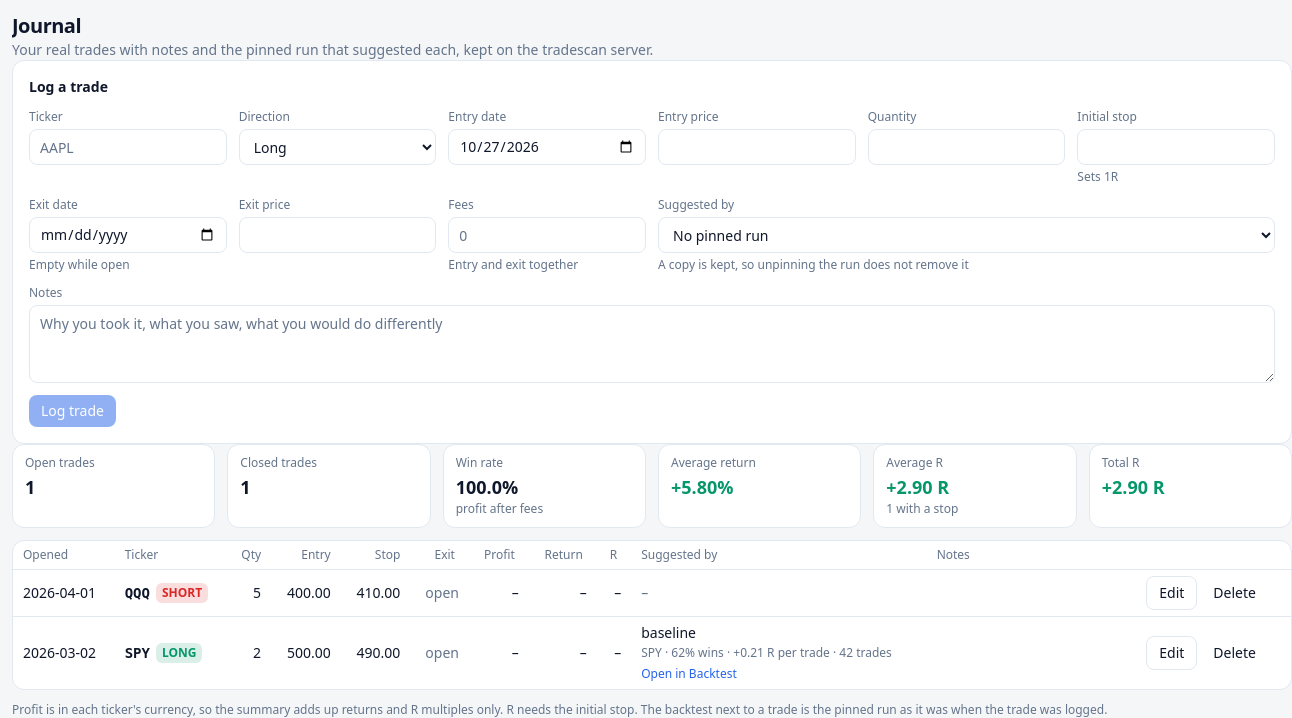
Test case: JournalPage › shows each trade's result and the summary, closes a trade and deletes one
The image size is (1292, 718).
Click the button with aria-label "Edit the SPY trade of 2026-03-02" at (1172, 653), box [1146,636,1197,670]
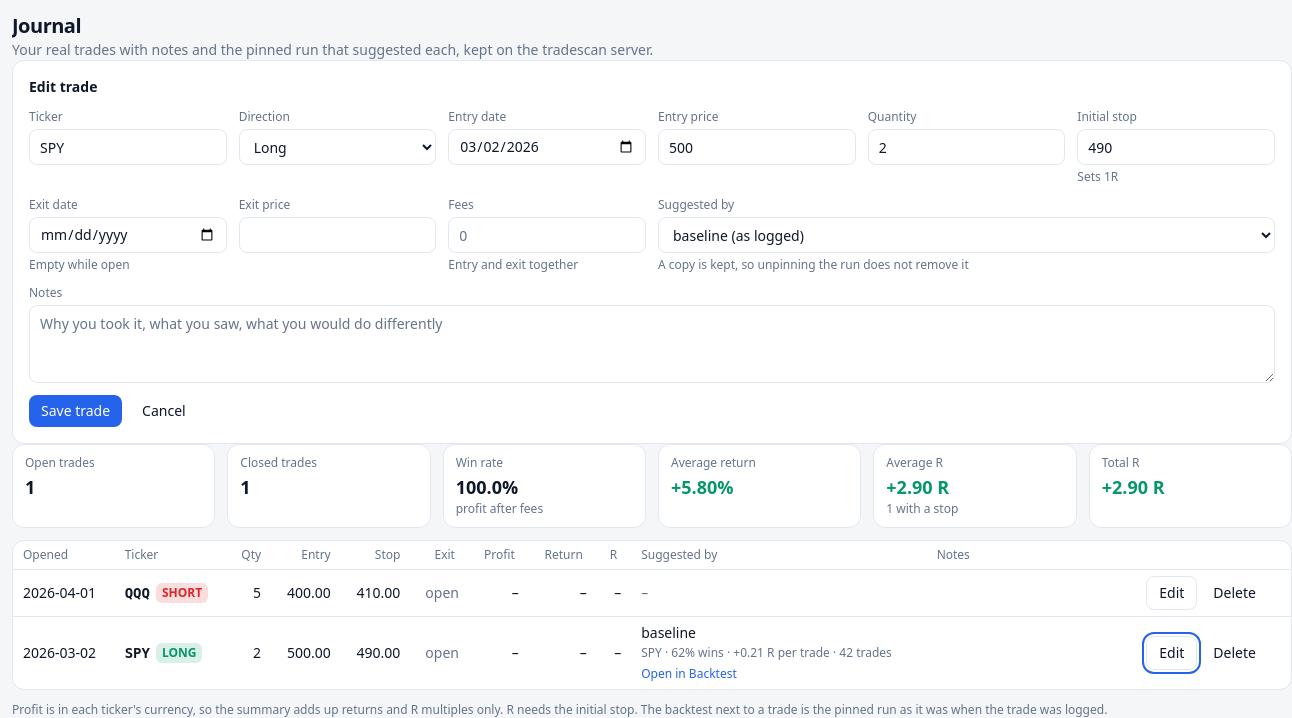
Expected: the heading "Edit trade" is shown, [29,77,97,96]
Expected: the dropdown labelled "Suggested by" shows "baseline (as logged)", [658,217,1275,253]
Type "2026-03-20" into the date field labelled "Exit date Empty while open" at (128, 235), box [29,217,227,253]
Type "530" into the number field labelled "Exit price" at (338, 235), box [239,217,436,253]
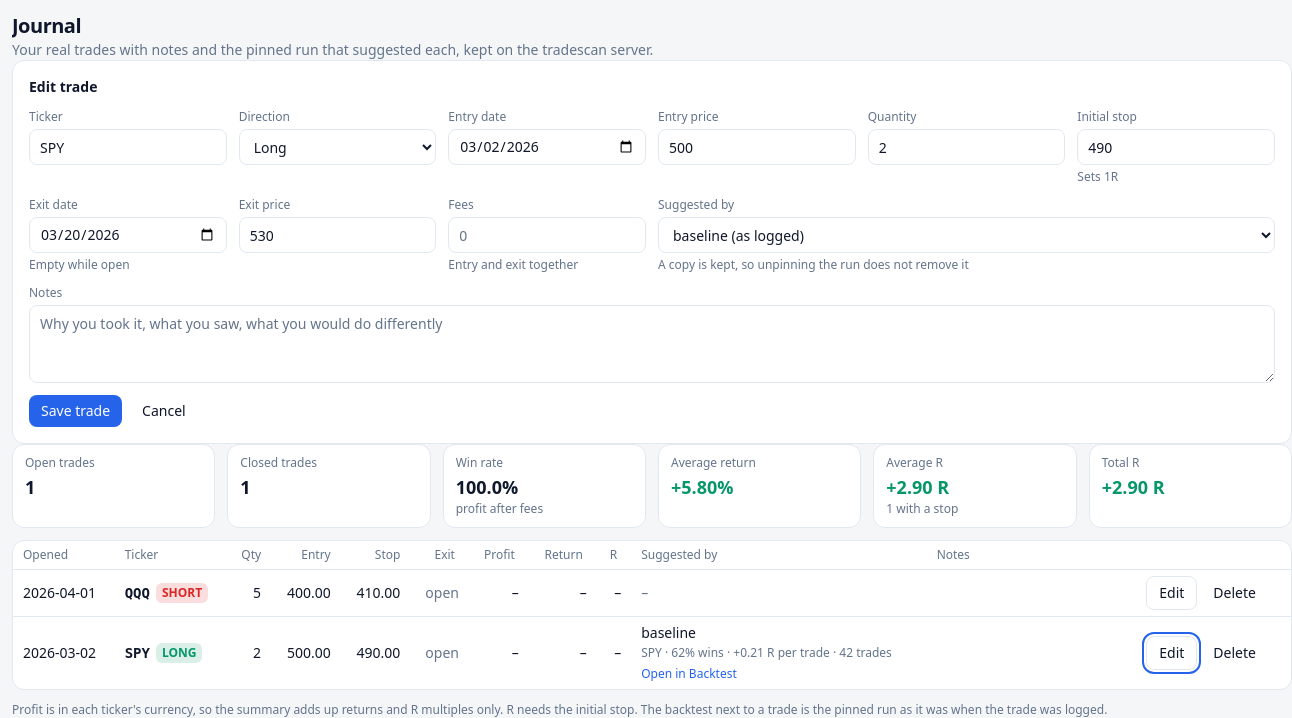
Type "2" into the number field labelled "Fees Entry and exit together" at (547, 235), box [448,217,646,253]
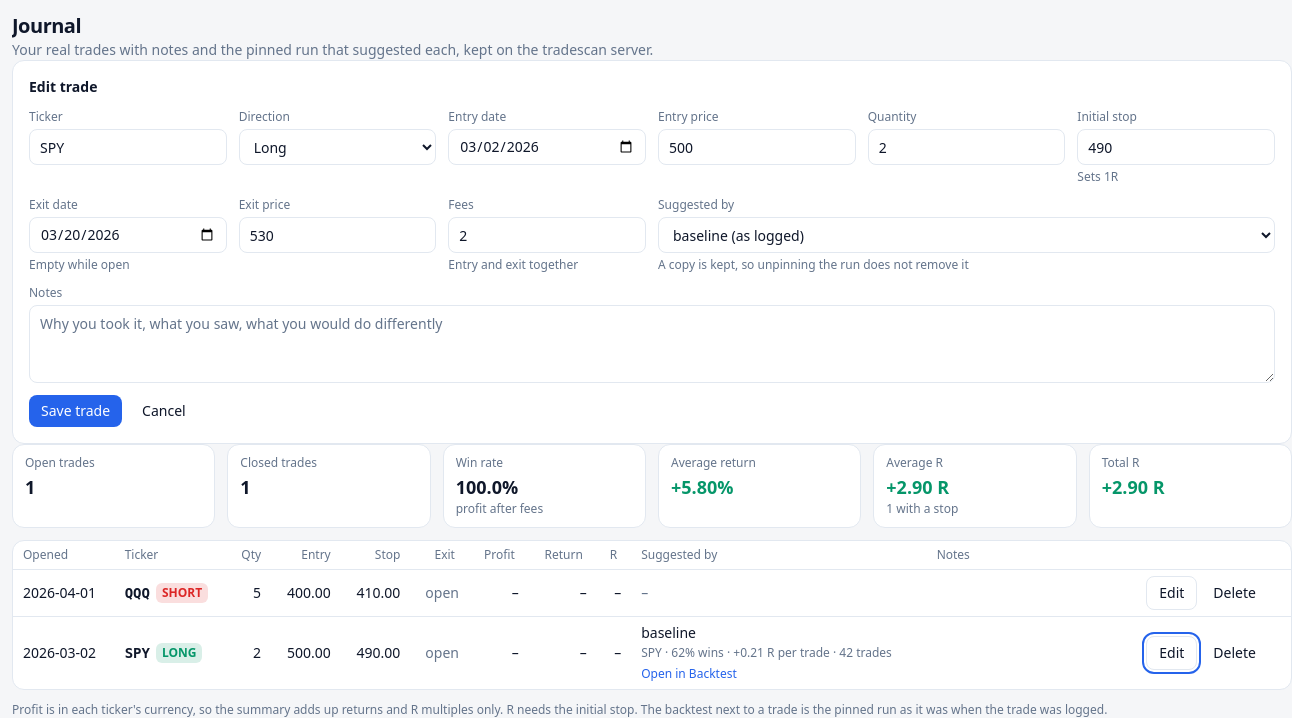
Click the button "Save trade" at (76, 411), box [29,395,122,427]
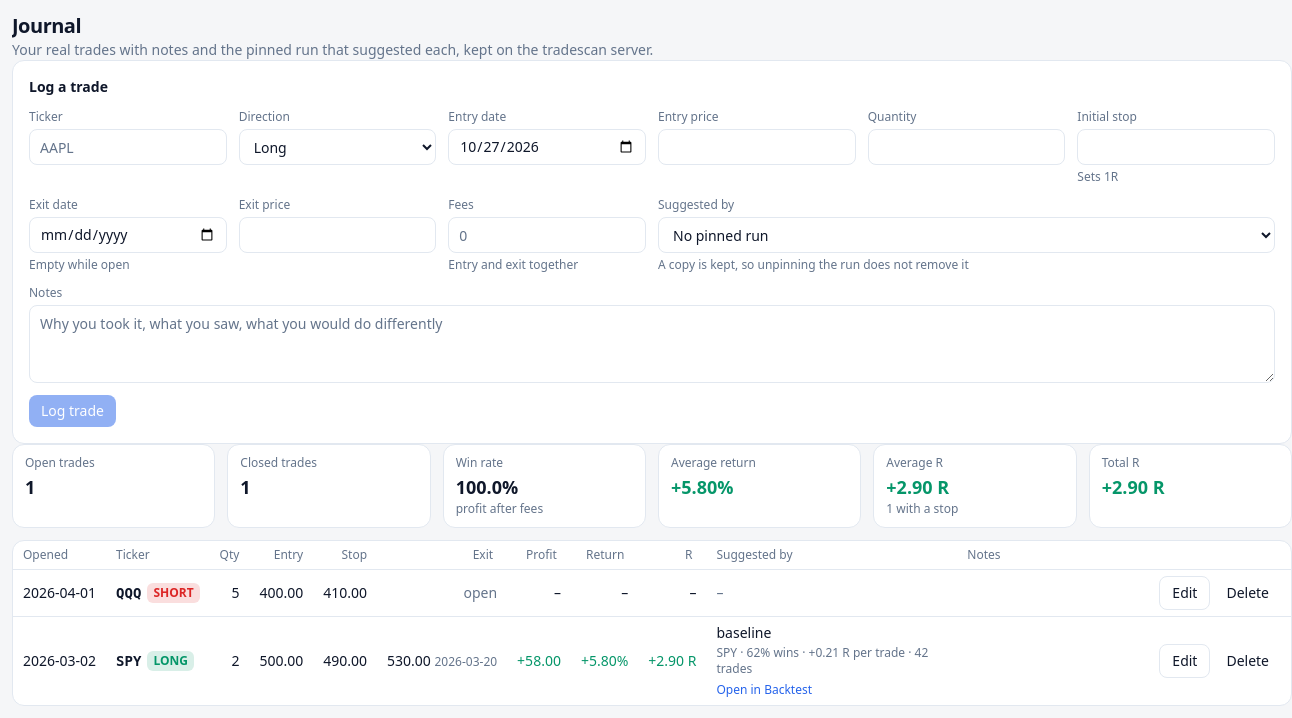
Expected: the row "SPY" shows "+58.00", [517,651,561,670]
Expected: the row "SPY" shows "+2.90 R", [648,651,696,670]
Expected: the heading "Log a trade" is shown, [29,77,108,96]
Click the button with aria-label "Delete the QQQ trade of 2026-04-01" at (1248, 593), box [1214,576,1281,610]
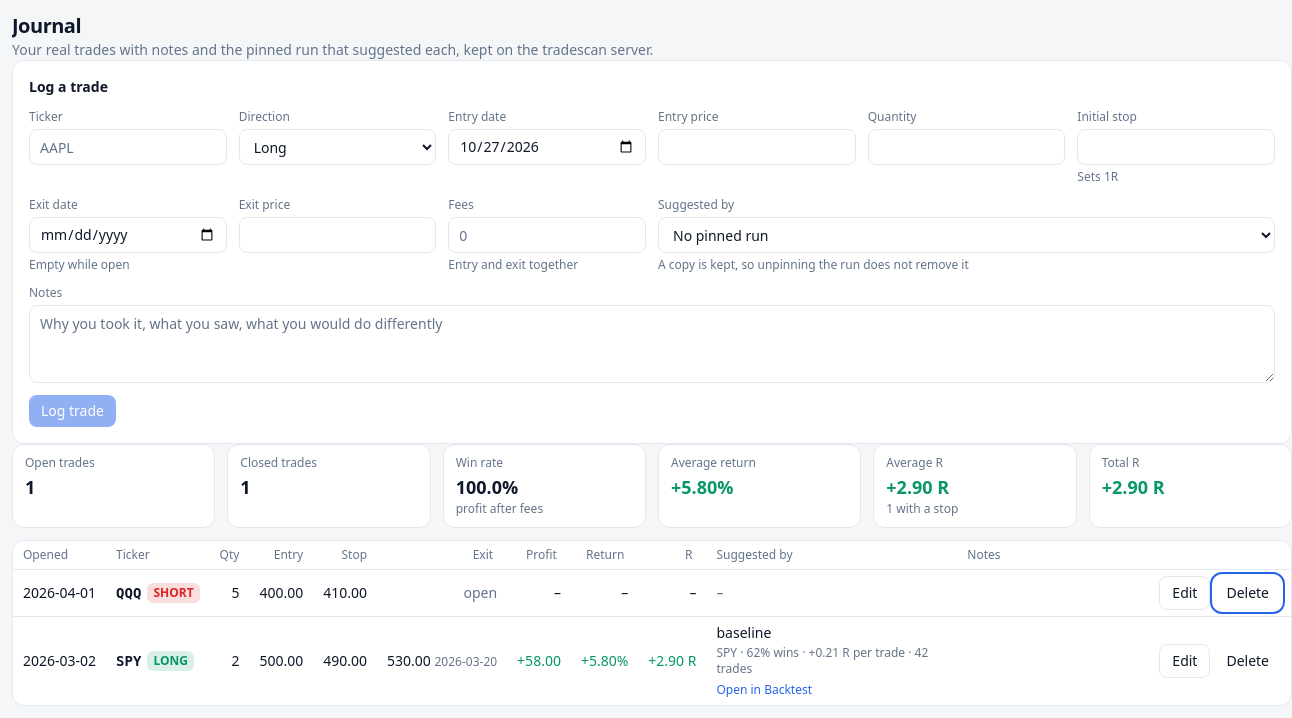
Click the button with aria-label "Delete the QQQ trade of 2026-04-01" at (1248, 593), box [1214,576,1281,610]
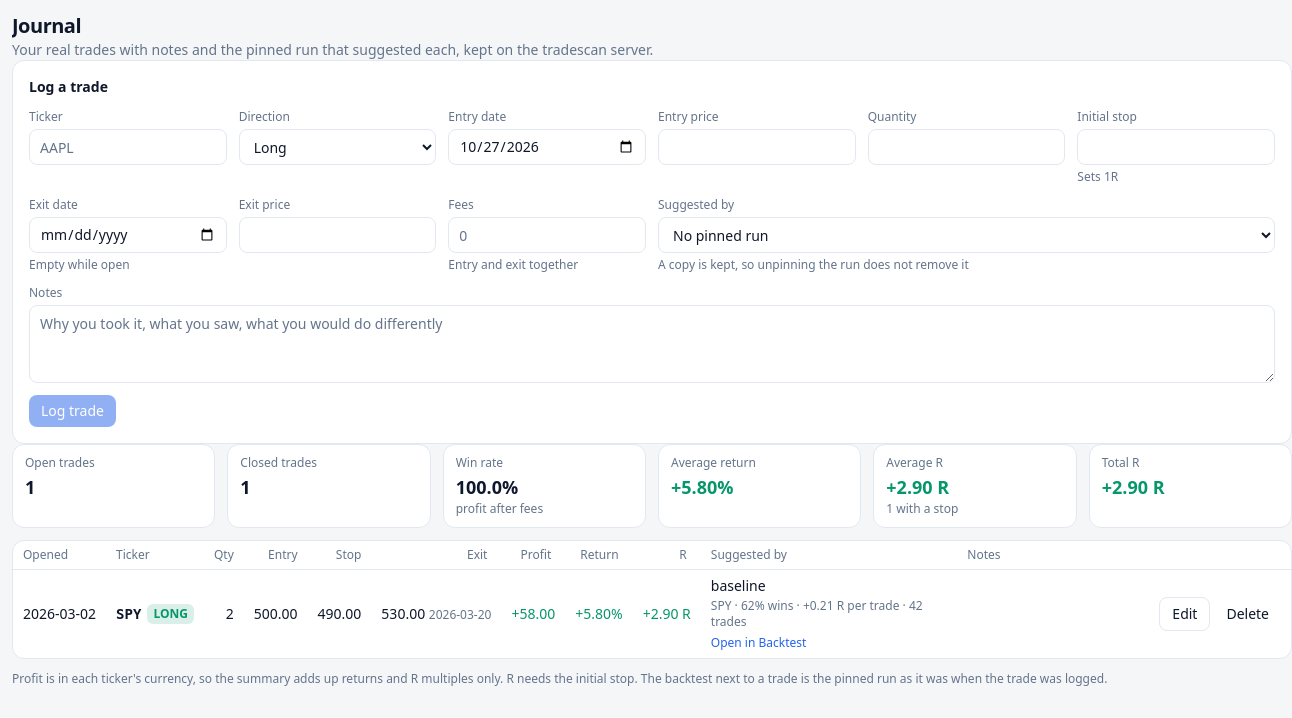
Expected: the text "QQQ" is gone
